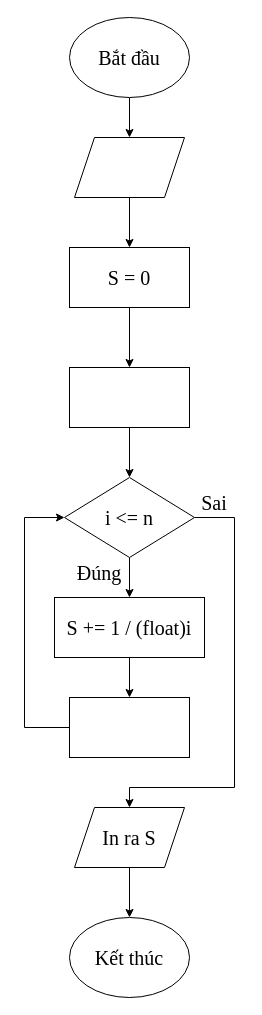
This 262x1015 diagram has some shape labels left out. Here are the shapes that lost their labels. From the top down, the box of each, then its label:
(74, 136, 184, 198): Nhập n
(68, 366, 190, 428): i = 1
(68, 696, 190, 758): i++
